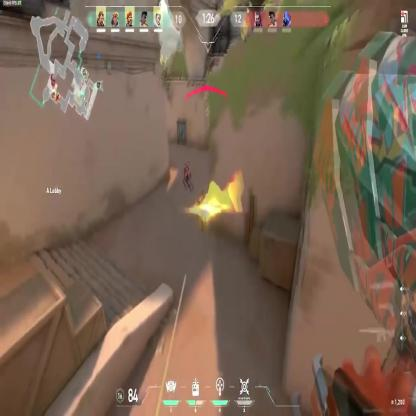enemy: (198, 193, 206, 230), (182, 162, 192, 190)
enemy_head: (200, 191, 204, 196), (184, 162, 187, 168)
